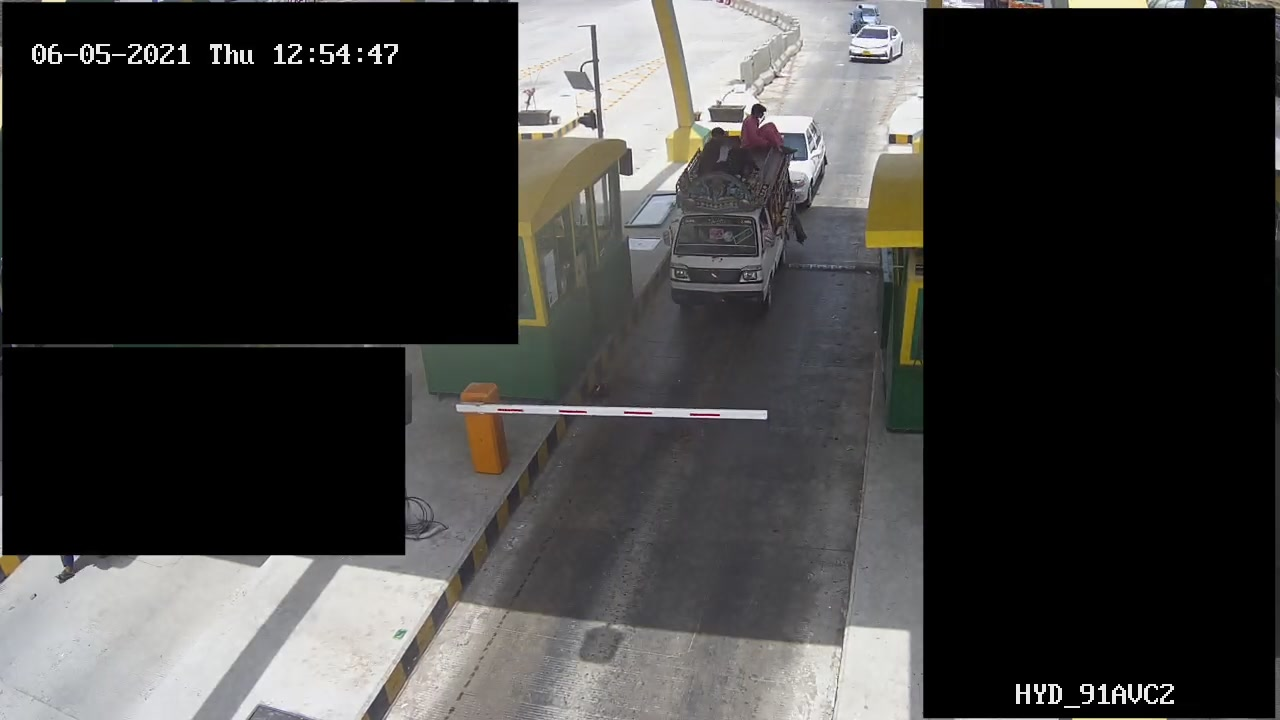F1: (663, 113, 794, 319)
